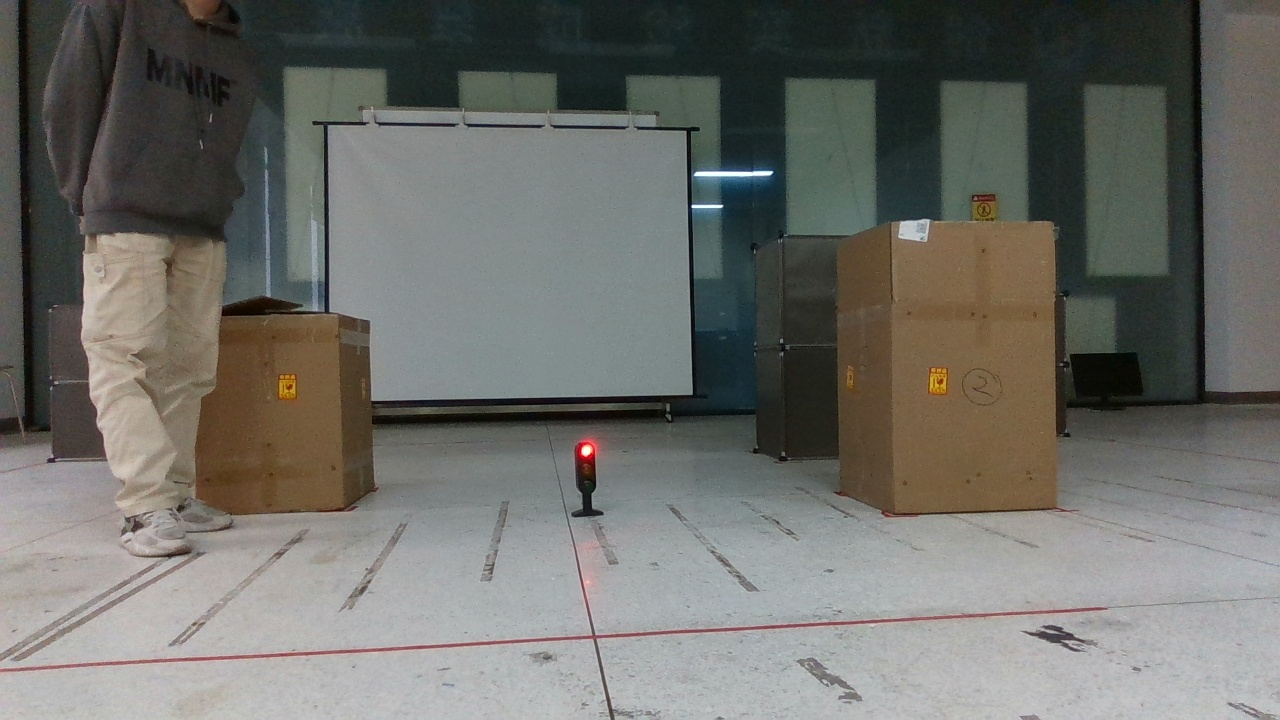red_light: (562, 431, 616, 526)
